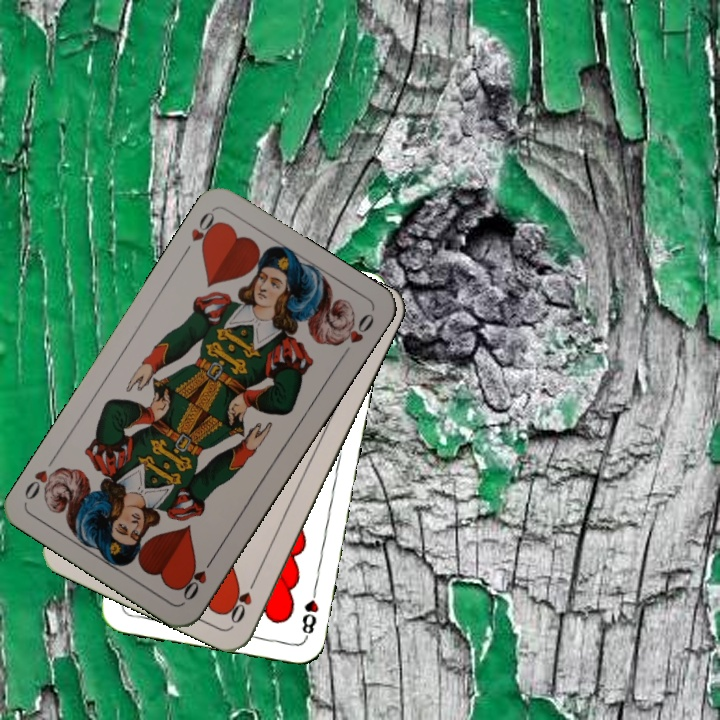H8: (298, 582, 321, 641)
HO: (178, 206, 223, 259), (177, 552, 218, 604), (225, 572, 260, 627)
